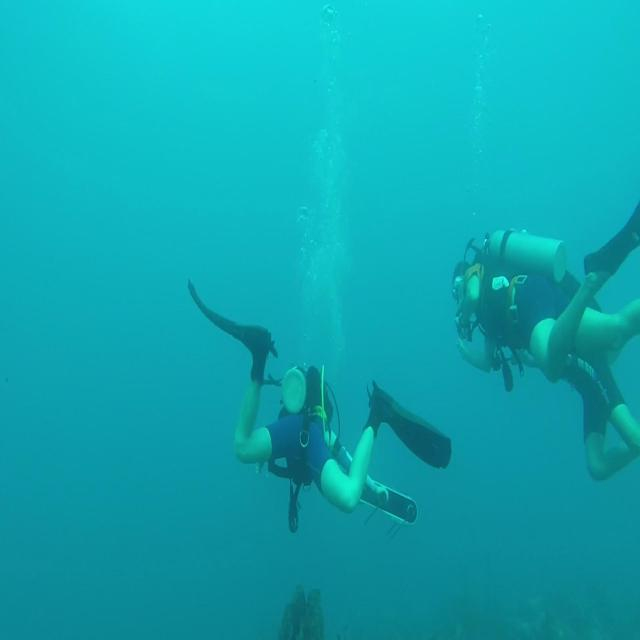human: (186, 276, 452, 535), (451, 201, 639, 482)
